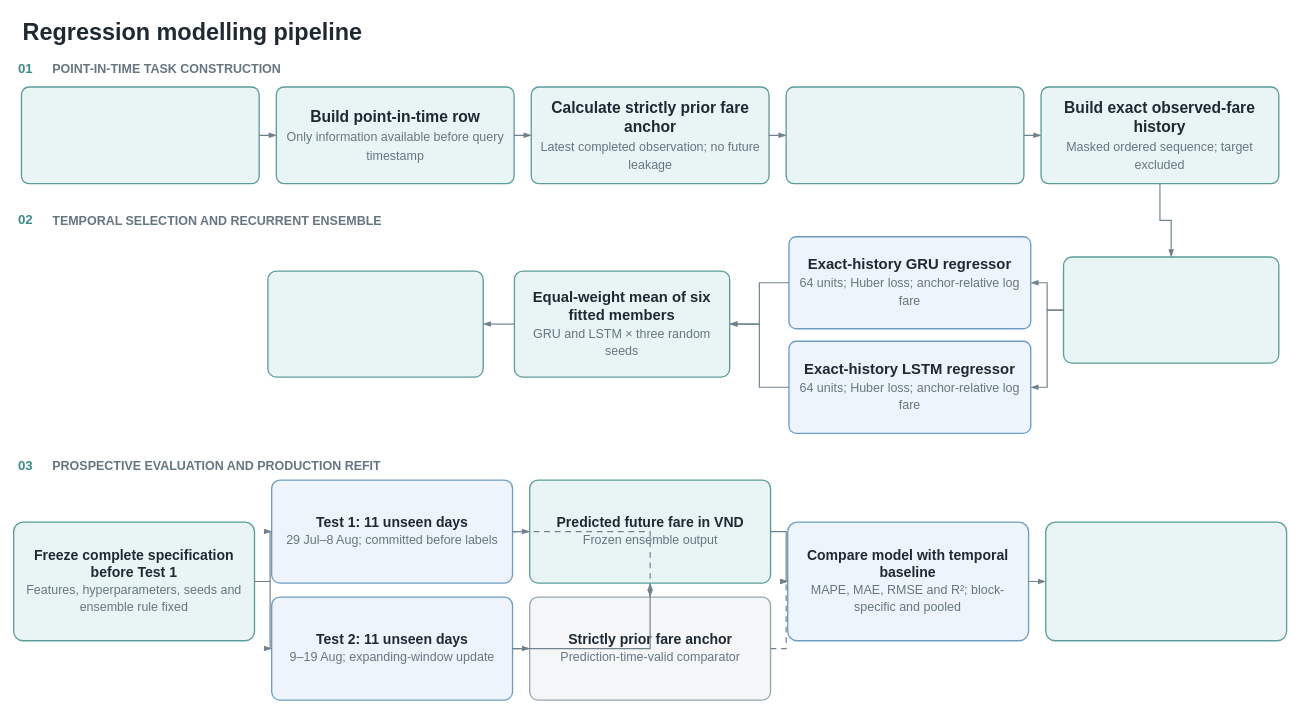
The diagram is 1301 pixels wide and 714 high, and some of its shapes have lost their labels. The shapes that lost their labels are listed below. From the top down, each one's centre as x and y in pixels, then its label:
At [140,135]: "Define candidate schedule Route, airline, departure time and DUD known".
At [904,135]: "Construct future-fare target Exact fare or time-consistent interpolation".
At [375,323]: "Transform output to fare in VND Prior anchor × exp(mean relative log fare)".
At [1171,309]: "128-day rolling-origin validation Screen F02–F04; validate F05–F06 by MAPE".
At [1166,581]: "Final production refit Same recipe refitted through 19 Aug; no reselection".
